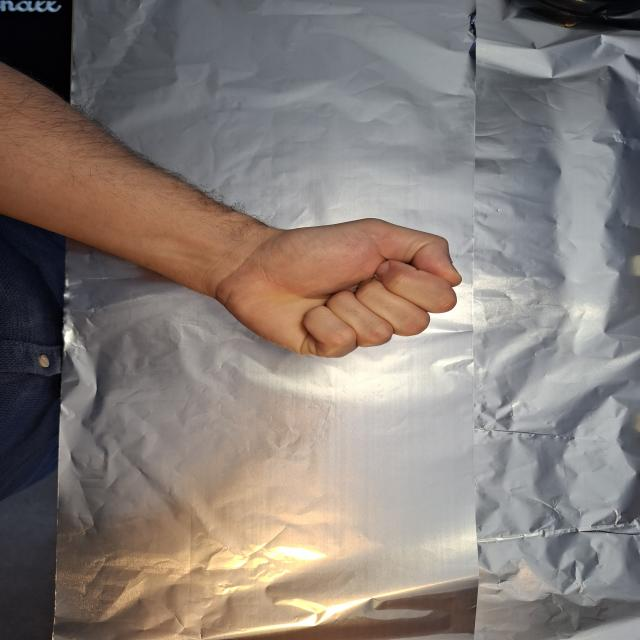glove_off: (187, 201, 465, 361)
